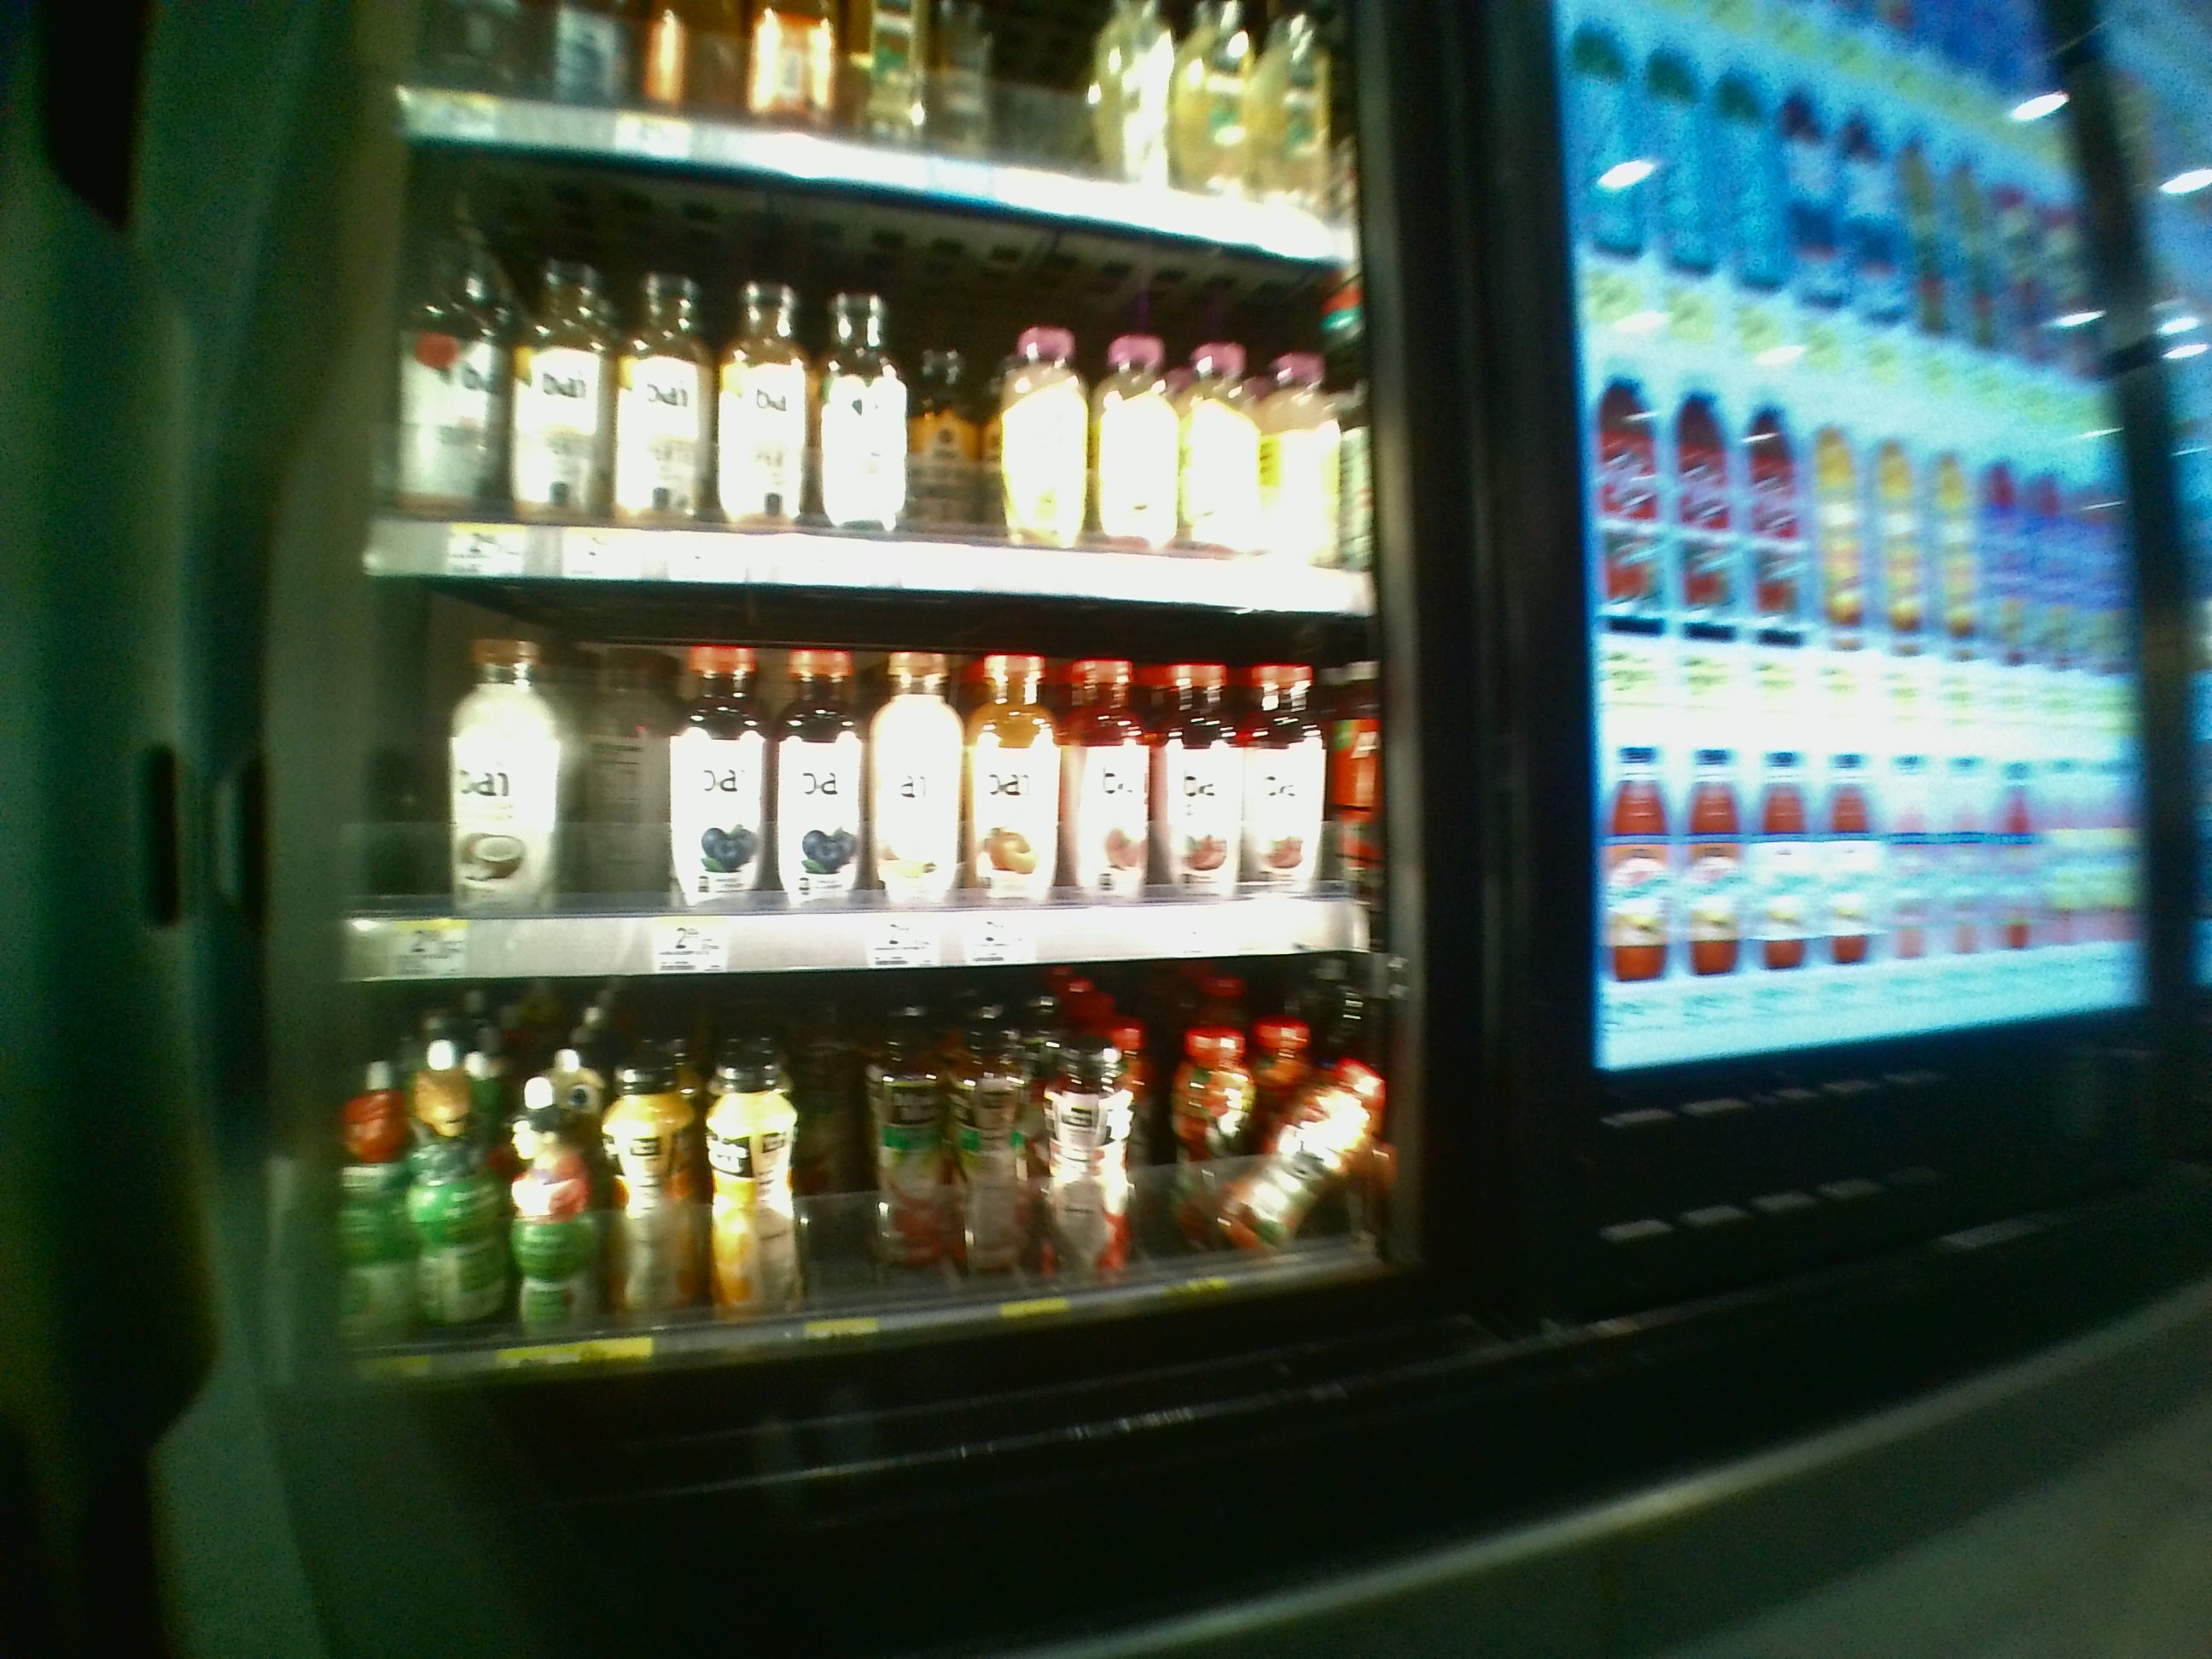shelf: (364, 141, 1379, 591), (320, 985, 1393, 1382), (320, 603, 1378, 978)
